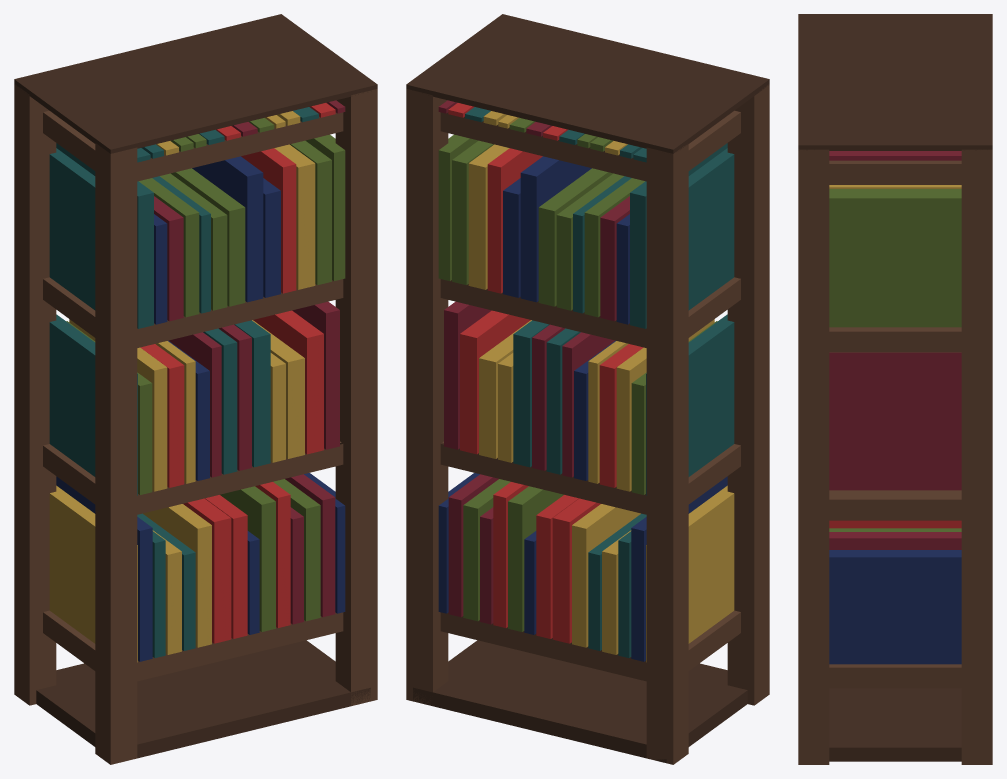
Rendered from bookcaseOpen.glb.
The picture shows the model from 3 angles, left to right: view 1: azimuth 30°, elevation 25°; view 2: azimuth 150°, elevation 25°; view 3: azimuth 270°, elevation 25°; orthographic projection.
Parts seen in each view (by area): view 1: bookcaseOpen(Clone); view 2: bookcaseOpen(Clone); view 3: bookcaseOpen(Clone).
Boxes of the visible parts, x1,y1,x2,y2 form: bookcaseOpen(Clone): (14, 14, 377, 764); bookcaseOpen(Clone): (406, 14, 769, 764); bookcaseOpen(Clone): (798, 14, 992, 764).
Bounding box in the file's own units: 0.4 × 0.88 × 0.25.
